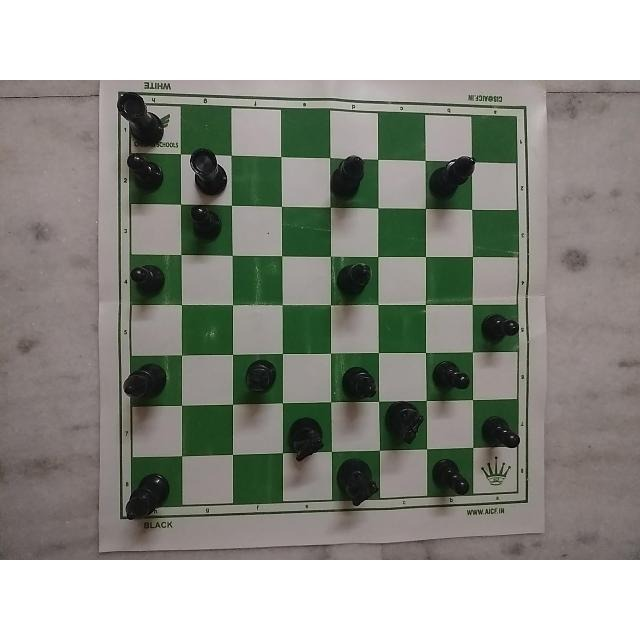black-bishop: (120, 465, 168, 526), (117, 361, 173, 407), (428, 150, 478, 200), (236, 355, 286, 399), (333, 258, 377, 308), (332, 153, 375, 199), (342, 365, 382, 405)
black-knight: (337, 453, 377, 509), (388, 399, 427, 451), (287, 418, 329, 460)
black-pawn: (122, 256, 170, 304), (122, 145, 174, 189), (426, 455, 476, 499), (480, 414, 525, 455), (431, 360, 473, 396), (183, 203, 223, 237), (481, 318, 526, 346)
black-rook: (110, 87, 168, 142), (187, 142, 230, 198)
